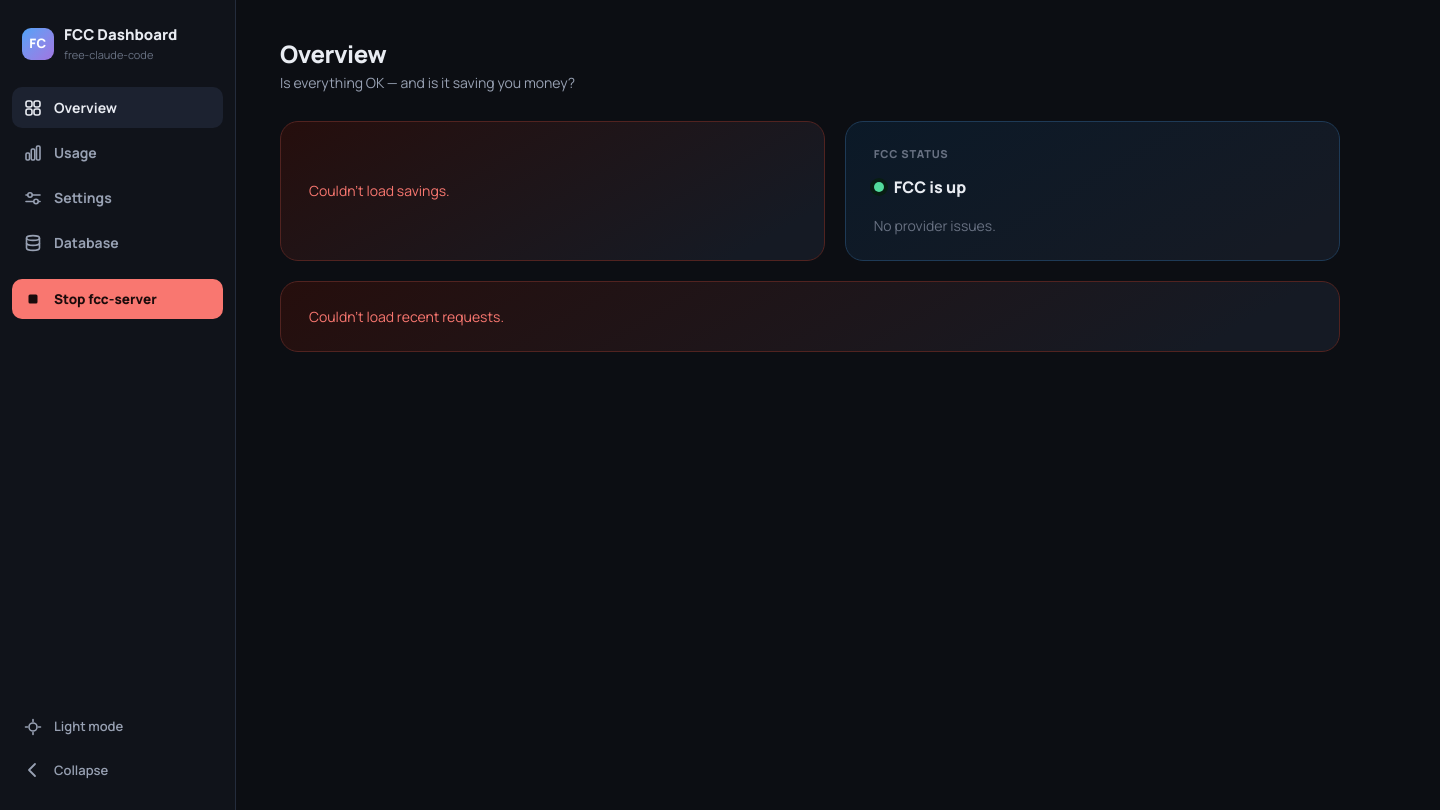
Test: App resilience › switches to the Settings tab on click, keeping the backend-reachable content mounted
Click the button "Settings". click: (118, 198)
box: [12,177,223,218]
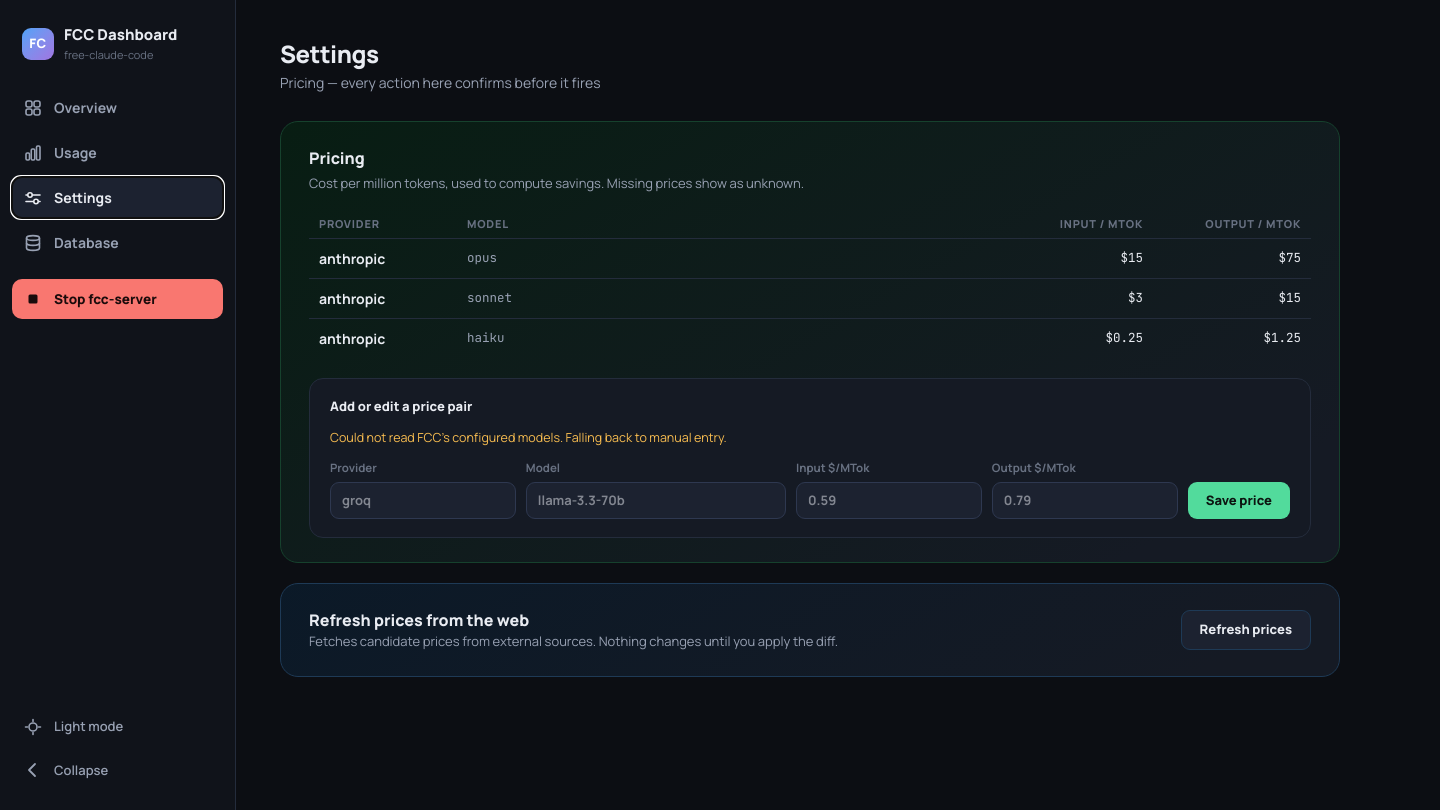
Check: the heading "FCC status" is gone
